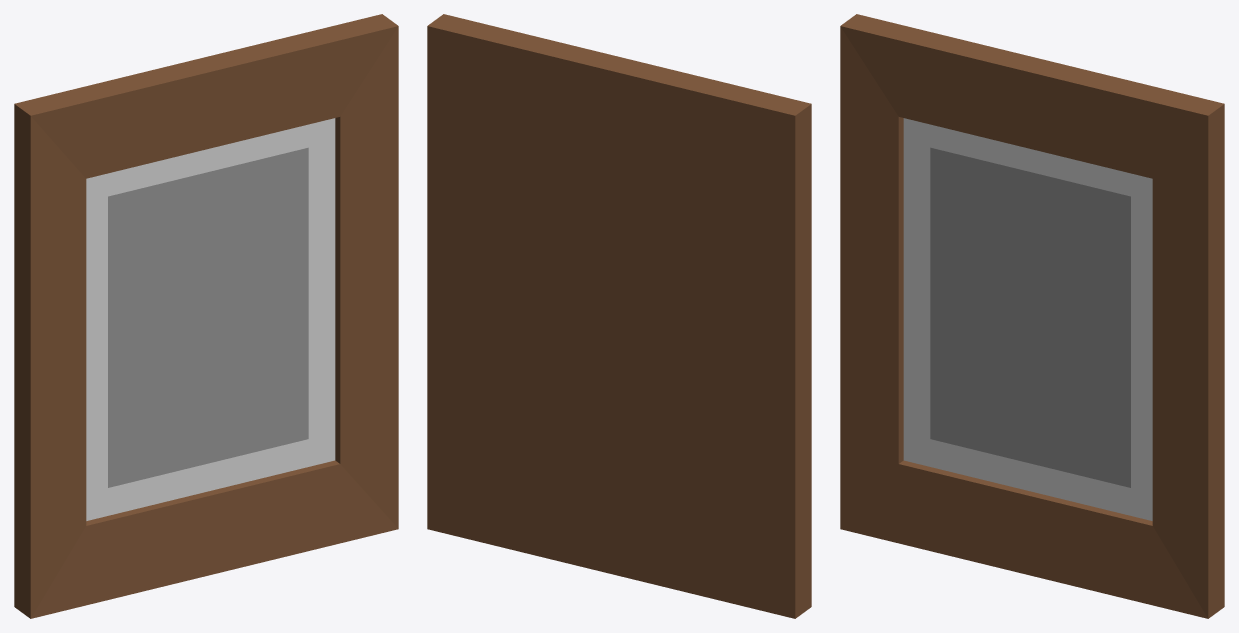
The model's file is Marco Cuadro 01.fbx.
The picture shows the model from 3 angles, left to right: view 1: azimuth 30°, elevation 25°; view 2: azimuth 150°, elevation 25°; view 3: azimuth 330°, elevation 25°; orthographic projection.
Visible parts, largest first — view 1: Marco base.001; view 2: Marco base.001; view 3: Marco base.001.
Boxes of the visible parts, x1,y1,x2,y2 form: Marco base.001: (14,14,398,618); Marco base.001: (427,14,811,618); Marco base.001: (840,14,1224,618).
Bounding box in the file's own units: 0.372 × 0.486 × 0.0288.
